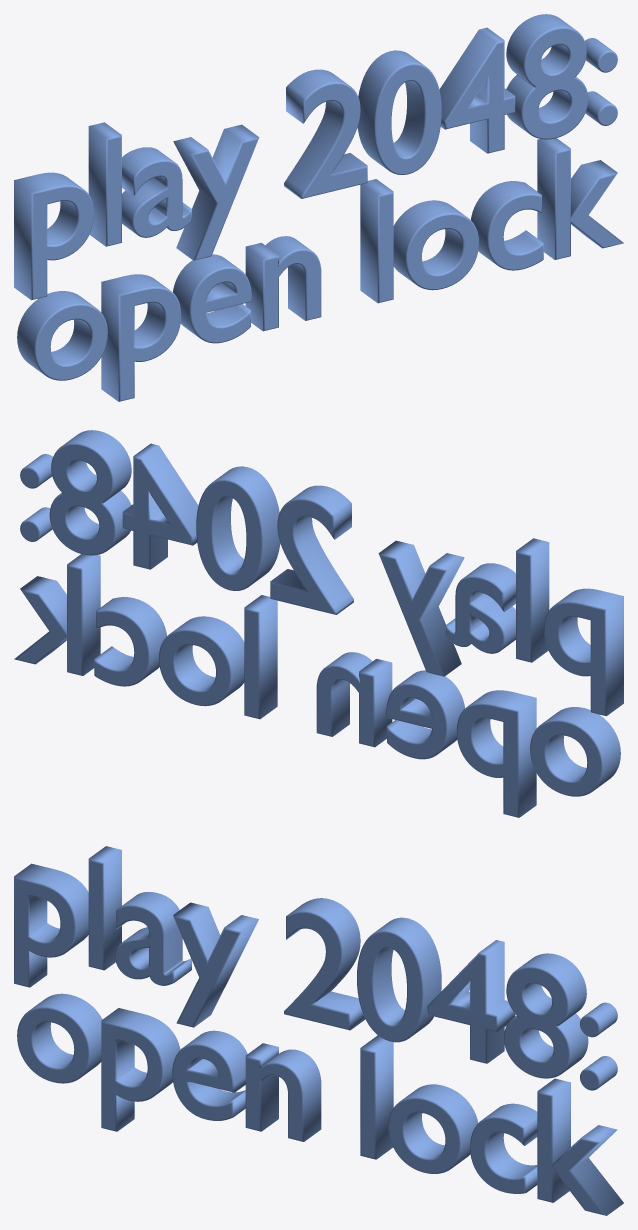
File: hint.glb
The picture shows the model from 3 angles, top to bottom: view 1: azimuth 30°, elevation 25°; view 2: azimuth 150°, elevation 25°; view 3: azimuth 330°, elevation 25°; orthographic projection.
Parts seen in each view (by area): view 1: Text; view 2: Text; view 3: Text.
Boxes of the visible parts, x1,y1,x2,y2 form: Text: (14, 14, 623, 401); Text: (14, 430, 623, 817); Text: (14, 846, 623, 1215).
Size of the model in its own units: 4.04 by 1.74 by 0.22.
